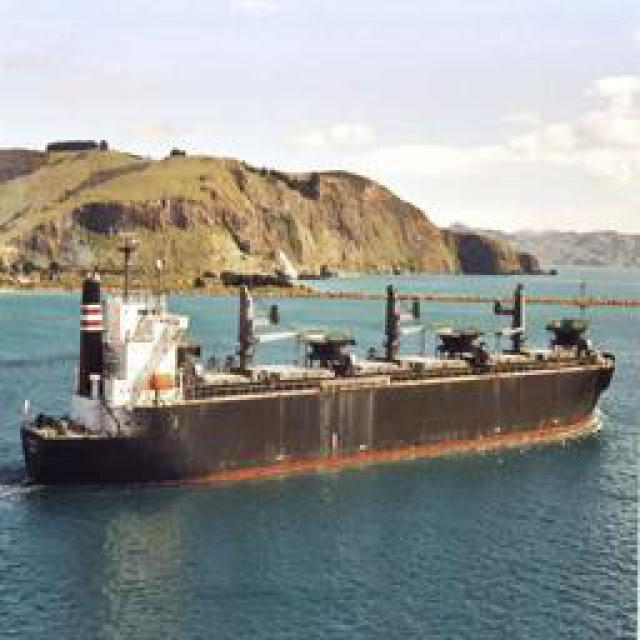Ship: (12, 282, 630, 482)
